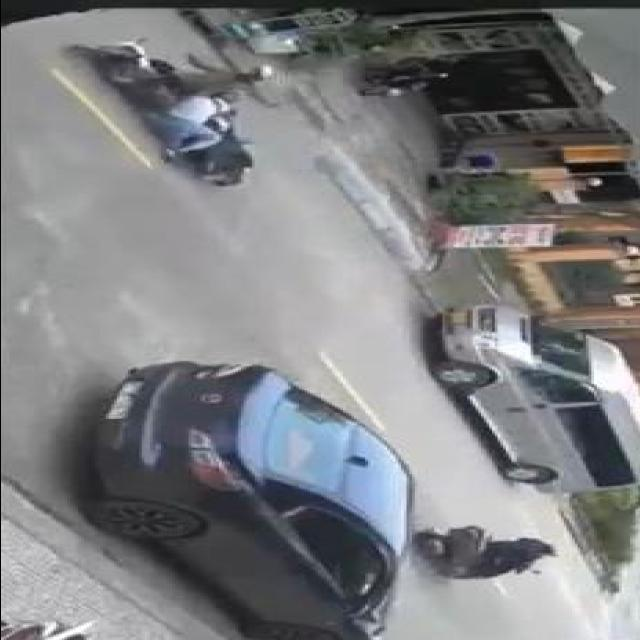accident: (65, 39, 294, 197)
non_accident: (77, 355, 568, 640)
